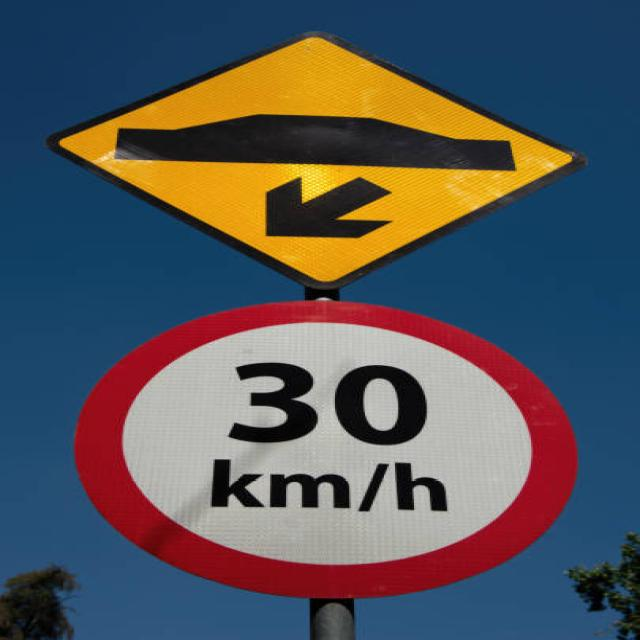Speed limit 30: (70, 298, 581, 601)
